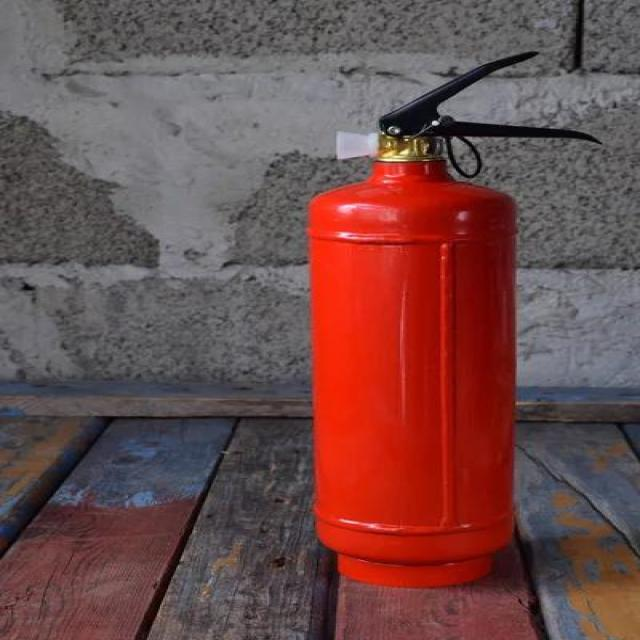fire_extinguisher: (299, 48, 611, 590)
